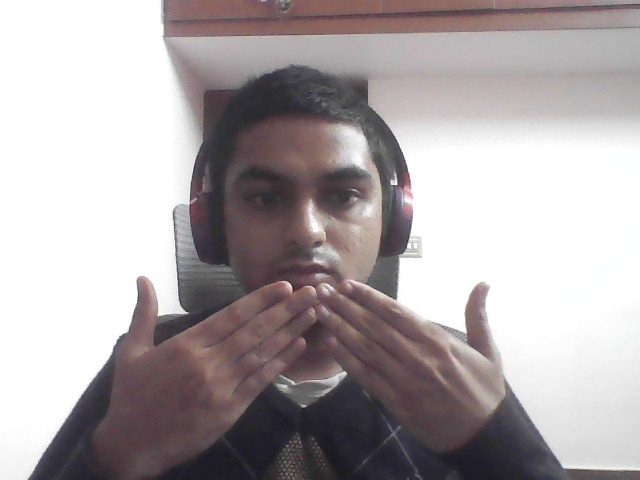Thank You: (91, 252, 516, 452)
